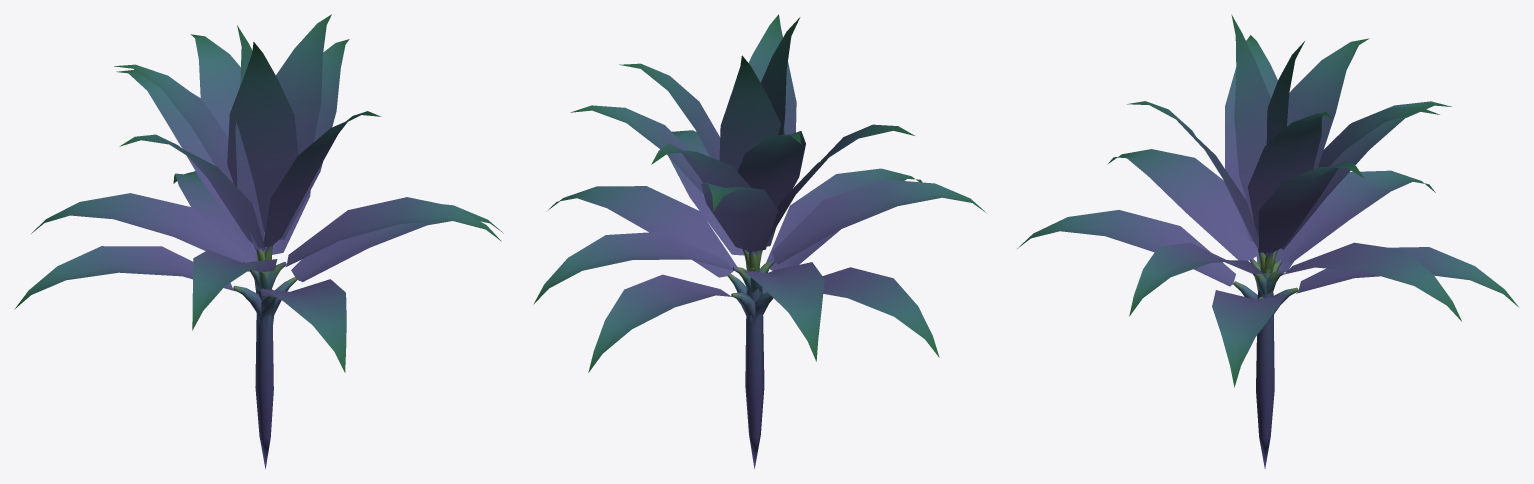
File: plants-leafy-plants-bromeliad_v4.glb
3 views of the same model, side by side, from view 1: azimuth 30°, elevation 25°; view 2: azimuth 150°, elevation 25°; view 3: azimuth 270°, elevation 25° (orthographic).
Parts seen in each view (by area): view 1: Bromeliad_v4; view 2: Bromeliad_v4; view 3: Bromeliad_v4.
Boxes of the visible parts, x1,y1,x2,y2 form: Bromeliad_v4: (14,14,503,469); Bromeliad_v4: (533,14,985,468); Bromeliad_v4: (1017,14,1518,468).
Bounding box in the file's own units: 0.4997 × 0.4841 × 0.5.
